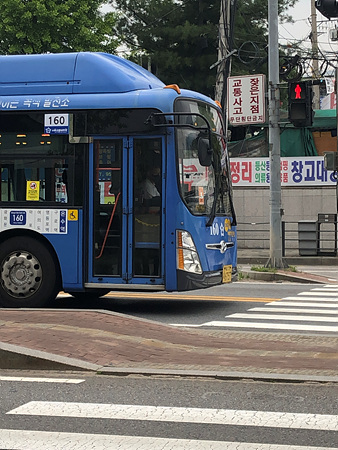entrance: (87, 130, 168, 295)
